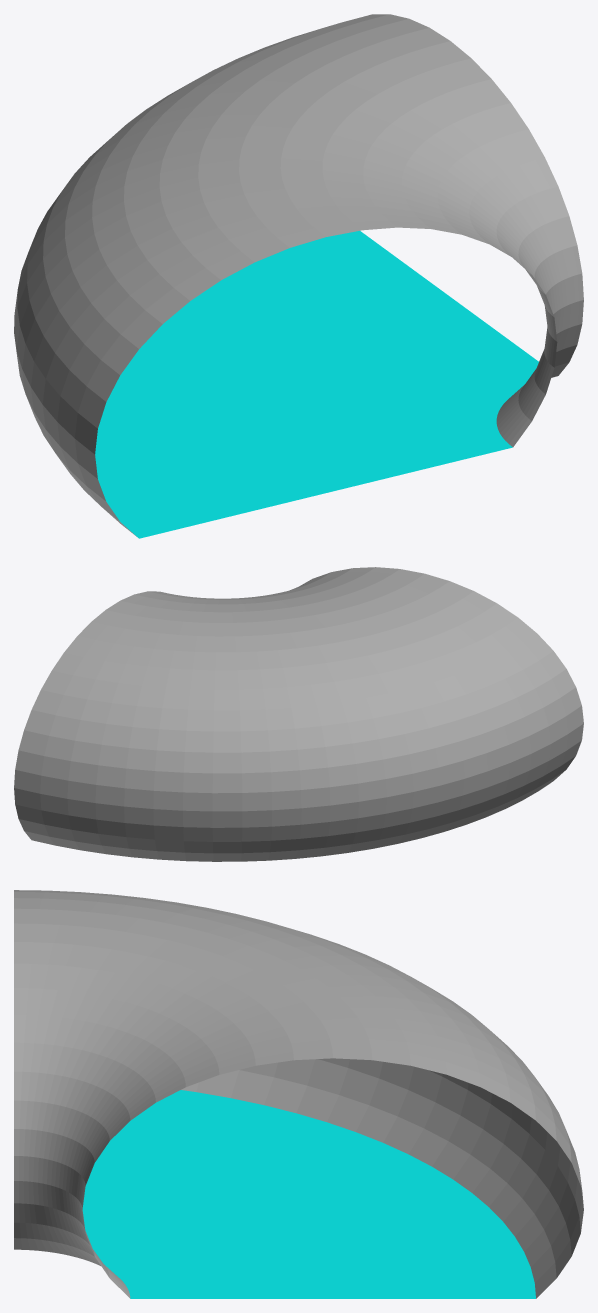
File: sm_tunnel_corner.fbx
The picture shows the model from 3 angles, top to bottom: view 1: azimuth 30°, elevation 25°; view 2: azimuth 150°, elevation 25°; view 3: azimuth 270°, elevation 25°; orthographic projection. The views are drawn at different scales.
Parts seen in each view (by area): view 1: sm_tunnel_corner; view 2: sm_tunnel_corner; view 3: sm_tunnel_corner.
Part boxes in pixels (left/top/right/bottom): sm_tunnel_corner: left=14, top=14, right=583, bottom=538; sm_tunnel_corner: left=14, top=567, right=583, bottom=861; sm_tunnel_corner: left=14, top=890, right=583, bottom=1298.
Size of the model in its own units: 27.28 by 12.7 by 27.28.
